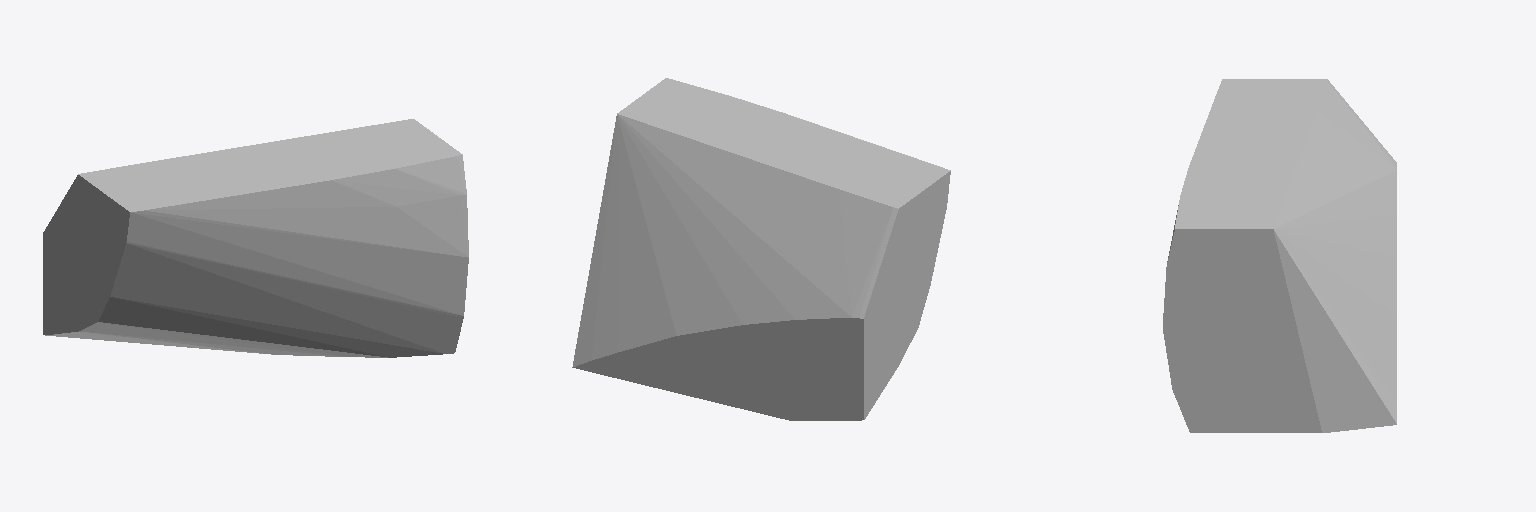
Rendered from phantom-elastrat_collision_83.obj.
3 views of the same model, side by side, from view 1: azimuth 30°, elevation 25°; view 2: azimuth 150°, elevation 25°; view 3: azimuth 270°, elevation 25° (orthographic).
Size of the model in its own units: 0.006 by 0.0038 by 0.004.